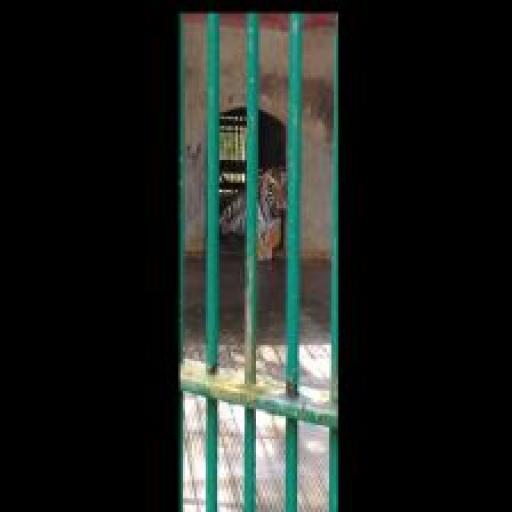Tiger: (219, 158, 287, 262)
